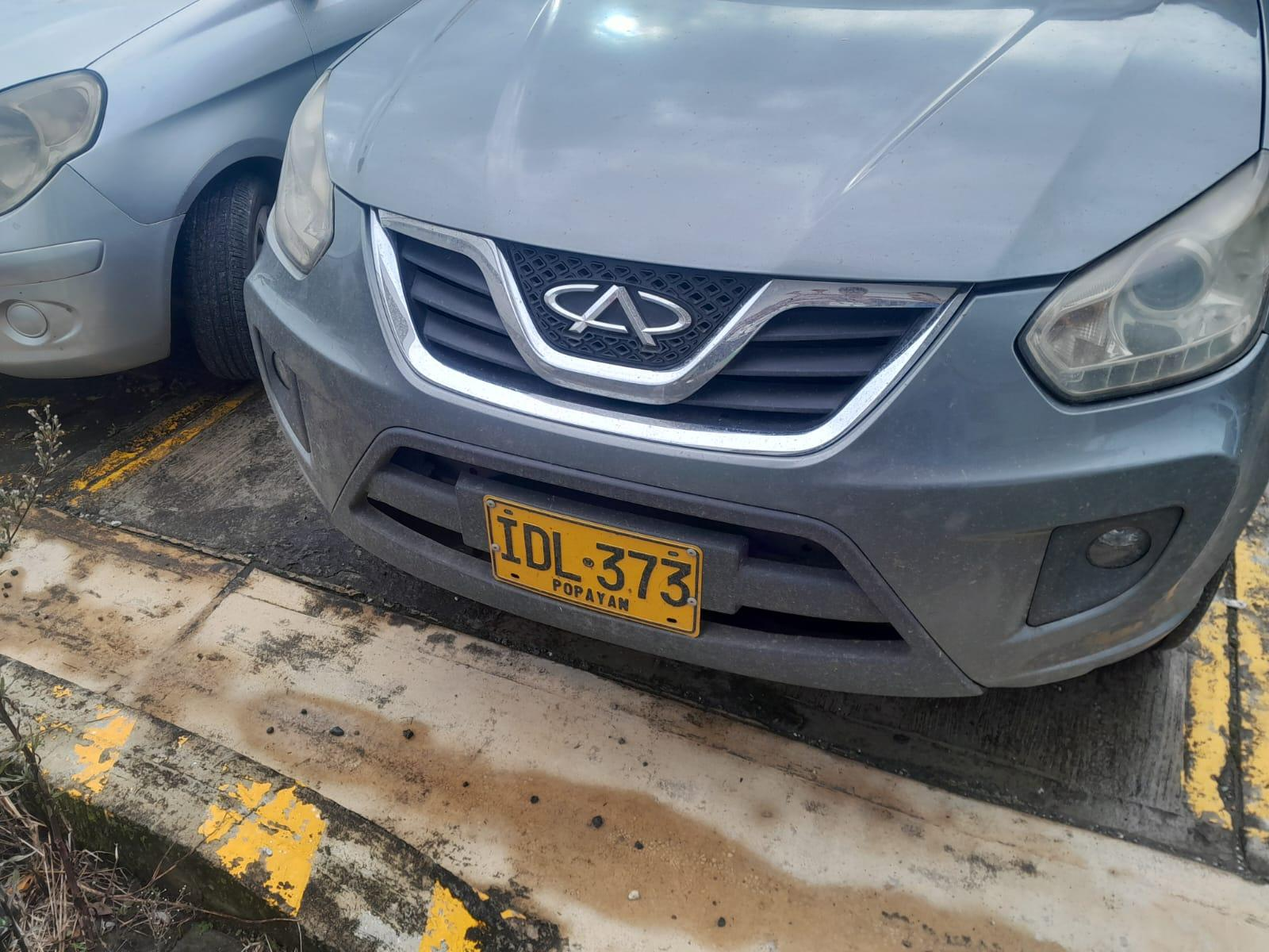placa: (482, 493, 703, 636)
